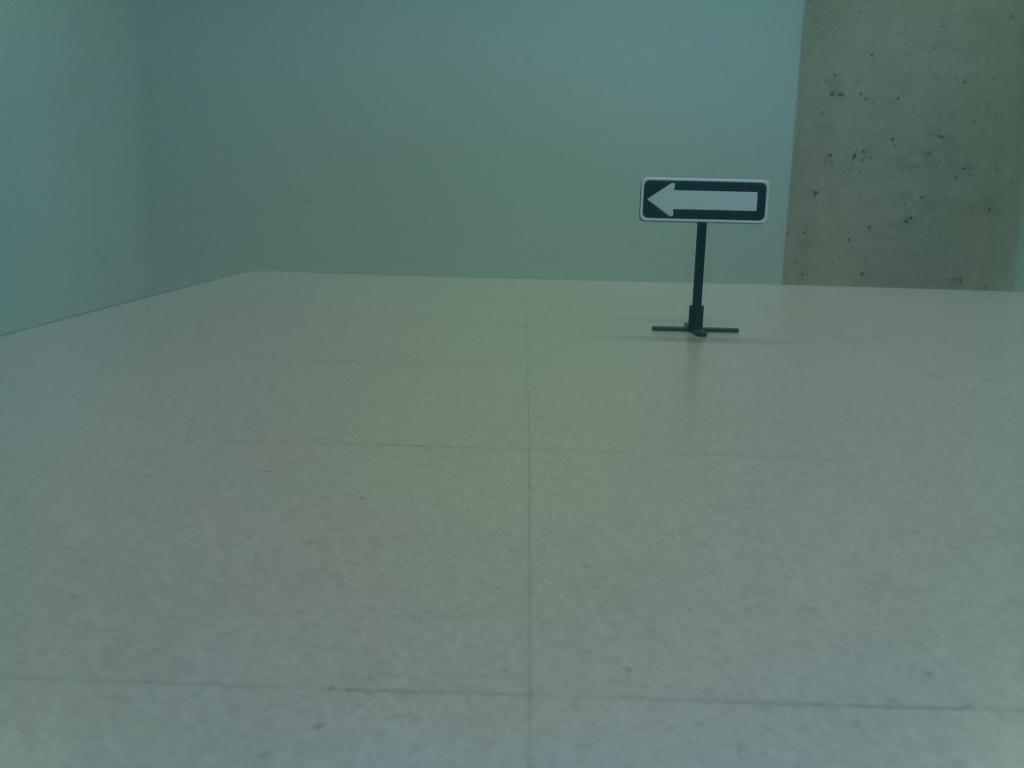sign_oneway_left: (632, 173, 774, 230)
